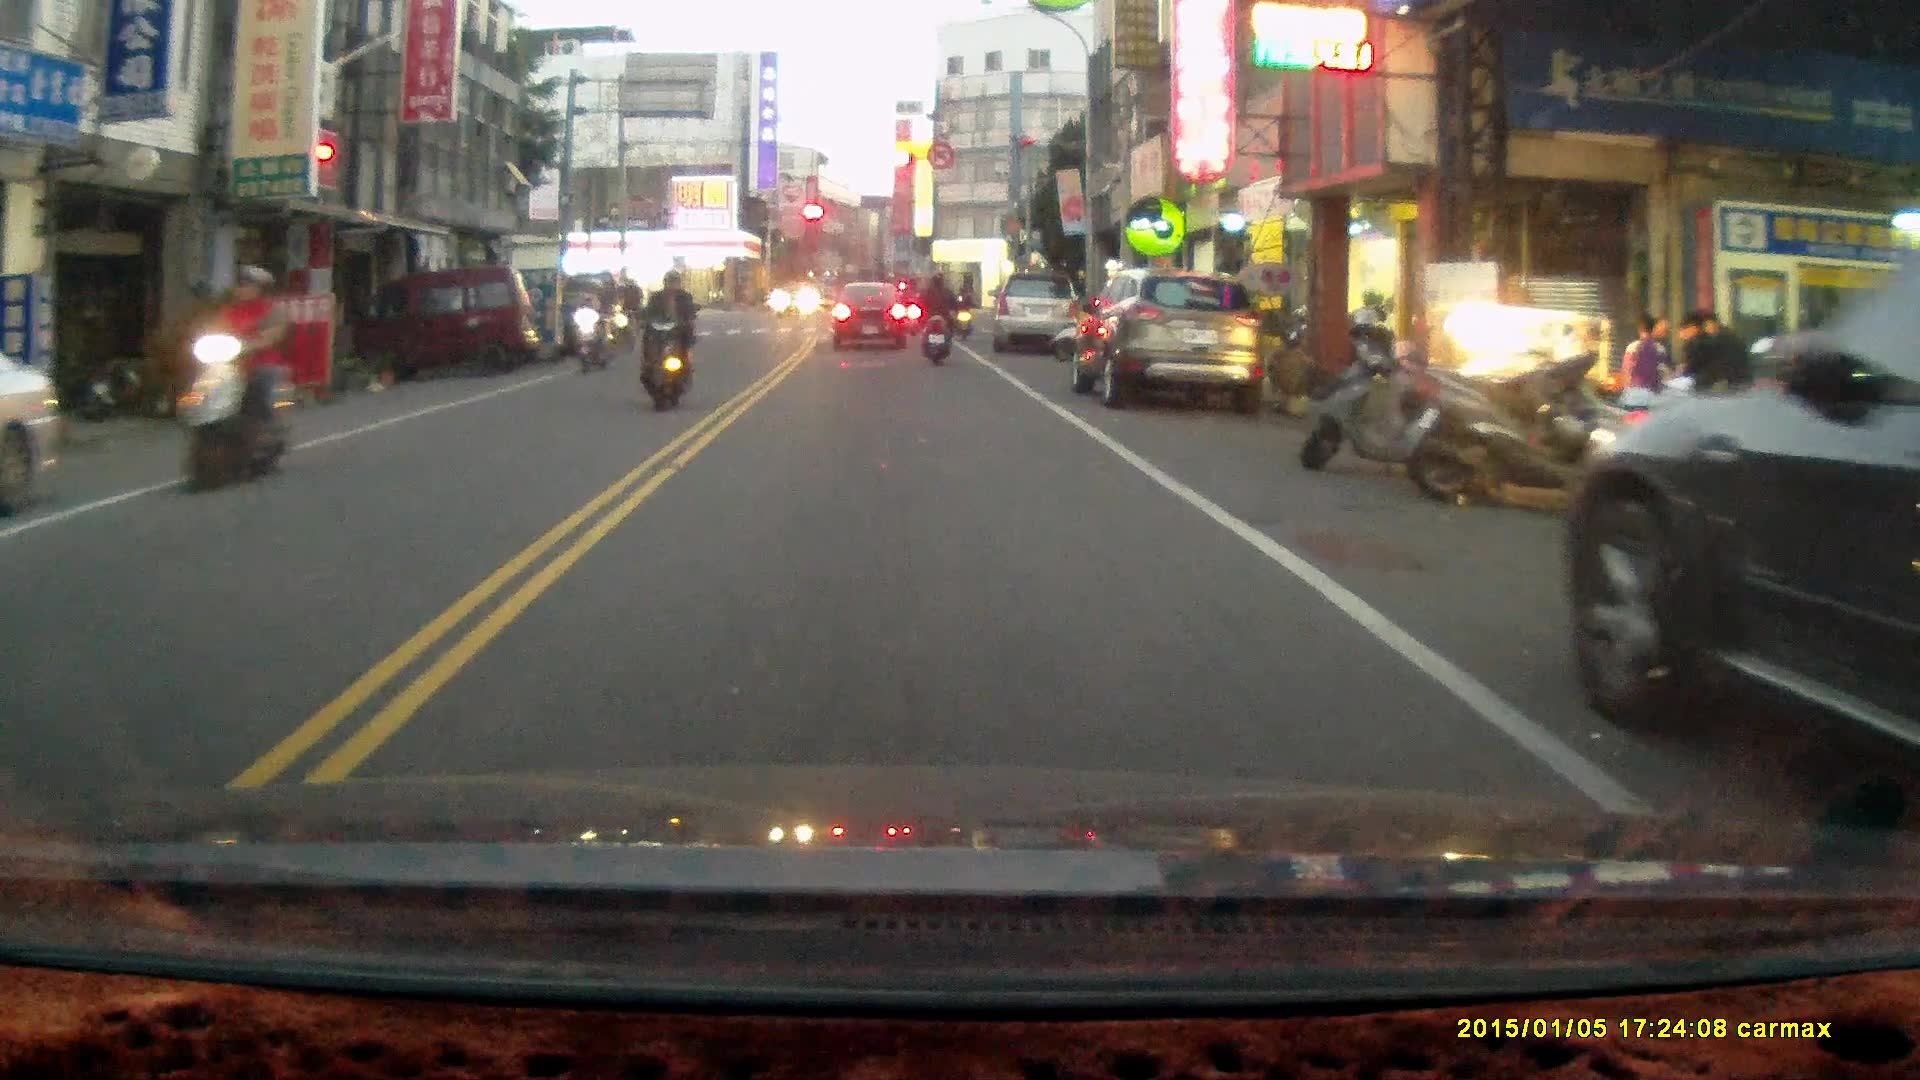pedestrian: (1675, 312, 1729, 445), (1622, 309, 1671, 442)
rider: (172, 260, 292, 496), (627, 268, 696, 412), (570, 274, 616, 374), (915, 268, 956, 369), (611, 273, 647, 356), (897, 273, 923, 333), (951, 282, 974, 341)
vehicle: (1560, 214, 1920, 813), (1072, 270, 1268, 412), (349, 268, 543, 381), (999, 270, 1083, 354)
